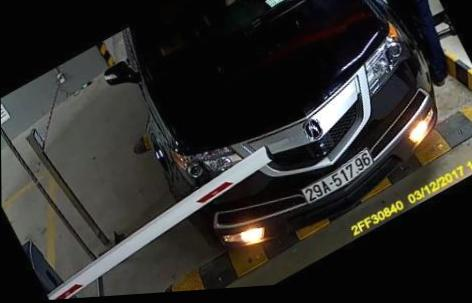License_Plate: (298, 148, 383, 209)
